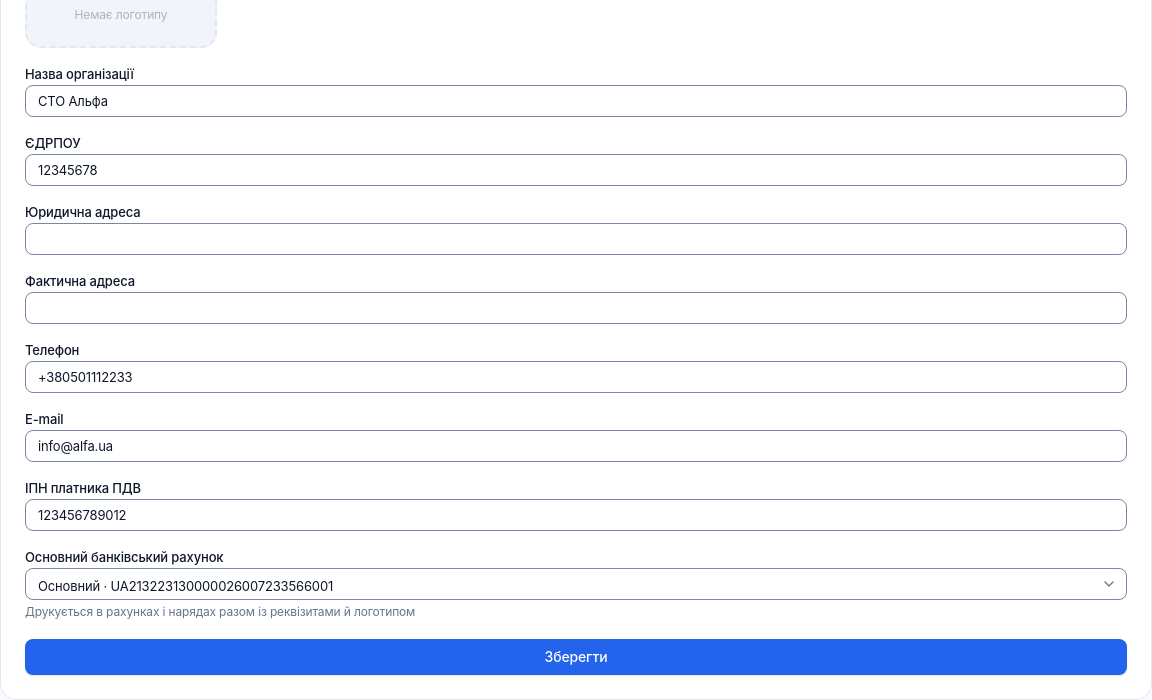
Test: OrgInfoTab — реквізити для друку › помилка валідації сервера показується текстом
(page scrolled)
Expected: the field showing "+380501112233" is shown, [25,360,1127,392]
Click the button "Зберегти".
click(576, 656)  # box [25,638,1127,674]
(page scrolled)
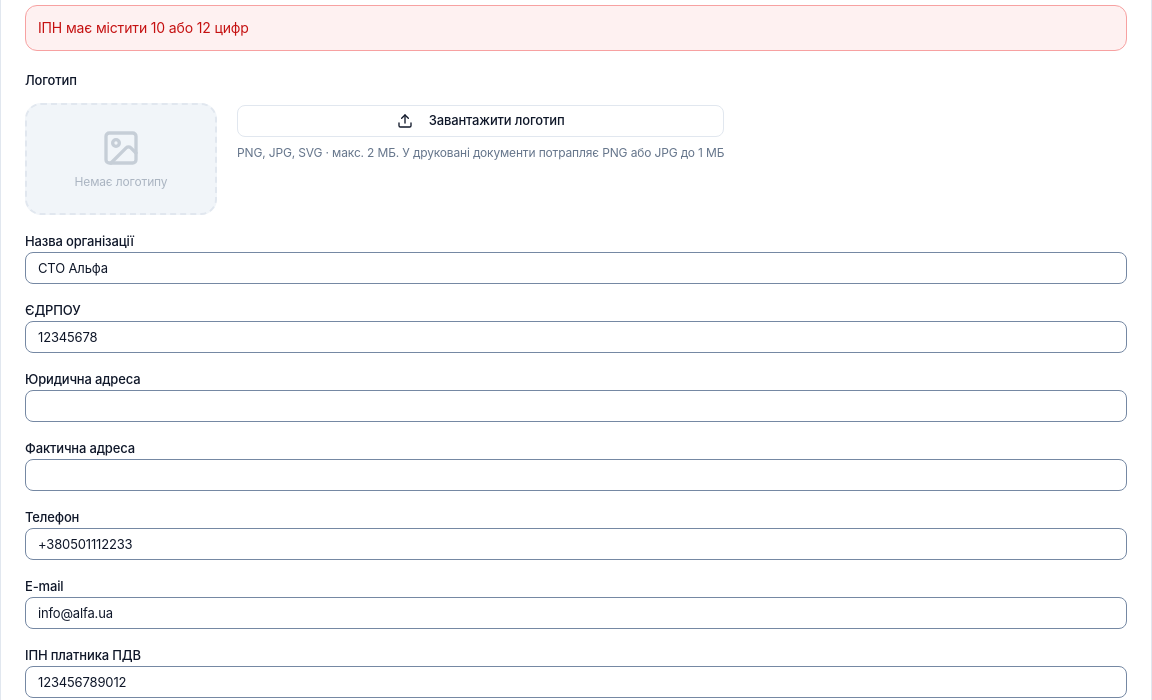
Expected: the text "ІПН має містити 10 або 12 цифр" is shown, [25,5,1127,51]
